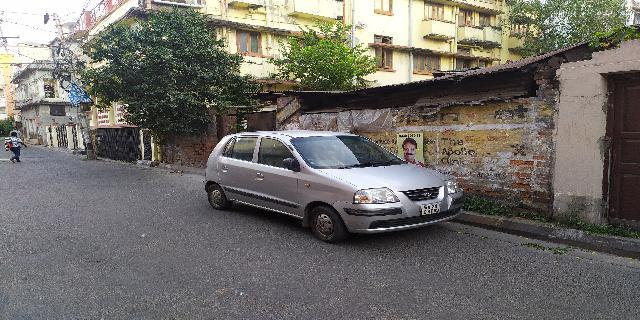Car: (202, 126, 465, 251)
